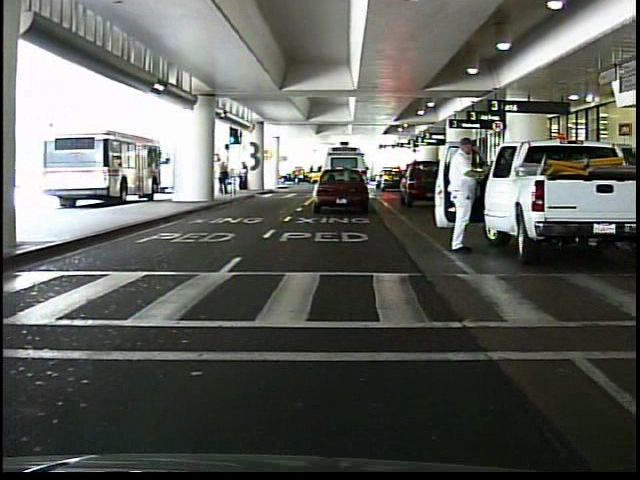person: (443, 132, 479, 257), (216, 155, 230, 200), (235, 163, 252, 196)
